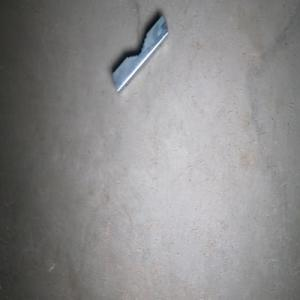ClampPart: (110, 14, 169, 93)
